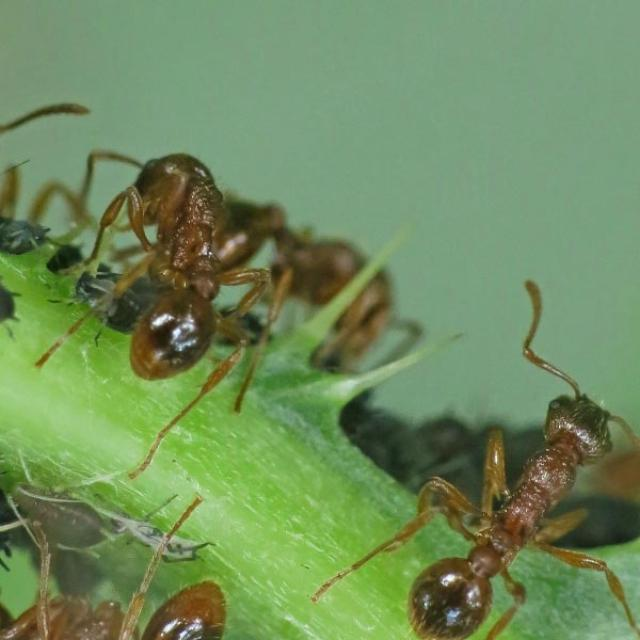Myrmica: (354, 322, 640, 640), (200, 167, 424, 373), (101, 161, 276, 393), (0, 503, 258, 639)
